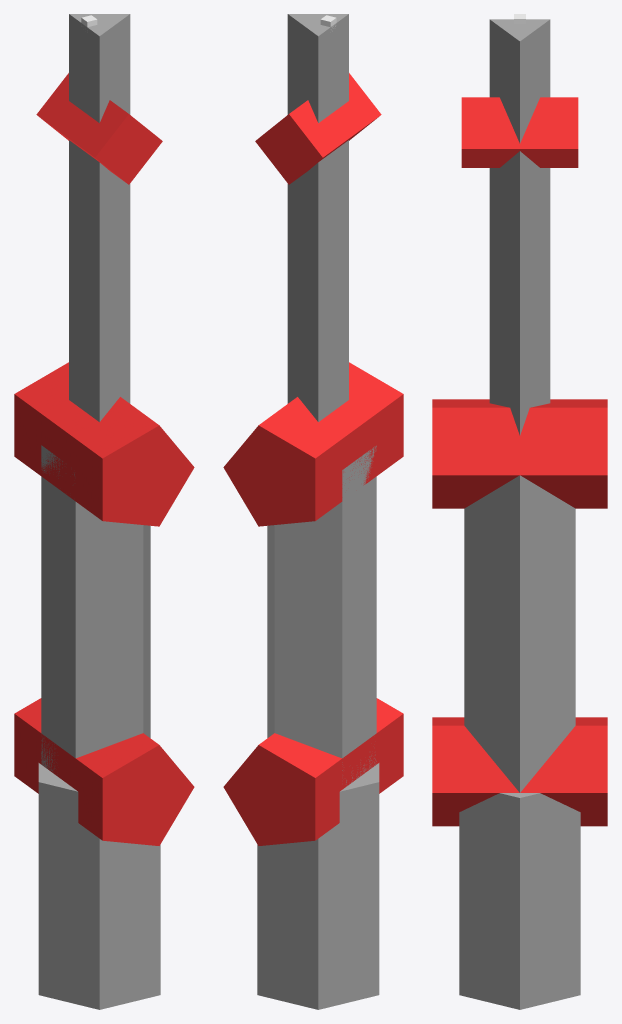
File: paperarm.round.dae
3 views of the same model, side by side, from view 1: azimuth 30°, elevation 25°; view 2: azimuth 150°, elevation 25°; view 3: azimuth 270°, elevation 25° (orthographic).
Visible parts, largest first — view 1: upper_arm_link, upper_arm_linkX, base_link, shoulder_linkX, forearm_link, shoulder_link, wrist_1_linkX, wrist_1_link, wrist_3_link, wrist_2_link; view 2: upper_arm_link, upper_arm_linkX, base_link, shoulder_linkX, forearm_link, shoulder_link, wrist_1_linkX, wrist_1_link, wrist_3_link, wrist_2_link; view 3: upper_arm_link, upper_arm_linkX, base_link, shoulder_link, shoulder_linkX, forearm_link, wrist_1_linkX, wrist_1_link, wrist_3_link, wrist_2_link.
Boxes of the visible parts, left/top/right/bottom form: upper_arm_link: left=41, top=445, right=150, bottom=774; upper_arm_linkX: left=14, top=362, right=194, bottom=526; base_link: left=38, top=888, right=160, bottom=1009; shoulder_linkX: left=14, top=698, right=194, bottom=845; forearm_link: left=69, top=227, right=130, bottom=421; shoulder_link: left=38, top=763, right=160, bottom=903; wrist_1_linkX: left=36, top=73, right=162, bottom=184; wrist_1_link: left=69, top=140, right=130, bottom=249; wrist_3_link: left=69, top=14, right=130, bottom=89; wrist_2_link: left=69, top=67, right=130, bottom=122; upper_arm_link: left=267, top=445, right=376, bottom=785; upper_arm_linkX: left=223, top=362, right=403, bottom=526; base_link: left=257, top=888, right=379, bottom=1009; shoulder_linkX: left=223, top=698, right=403, bottom=845; forearm_link: left=287, top=227, right=348, bottom=421; shoulder_link: left=257, top=763, right=379, bottom=903; wrist_1_linkX: left=255, top=73, right=381, bottom=184; wrist_1_link: left=287, top=140, right=348, bottom=249; wrist_3_link: left=287, top=14, right=348, bottom=89; wrist_2_link: left=287, top=67, right=348, bottom=122; upper_arm_link: left=464, top=475, right=575, bottom=792; upper_arm_linkX: left=432, top=399, right=607, bottom=508; base_link: left=459, top=889, right=580, bottom=1009; shoulder_link: left=459, top=793, right=580, bottom=903; shoulder_linkX: left=432, top=717, right=607, bottom=826; forearm_link: left=489, top=231, right=550, bottom=435; wrist_1_linkX: left=461, top=97, right=578, bottom=167; wrist_1_link: left=489, top=151, right=550, bottom=252; wrist_3_link: left=489, top=19, right=550, bottom=93; wrist_2_link: left=489, top=72, right=550, bottom=143.
Size of the model in its own units: 0.12 by 0.15 by 0.905.
